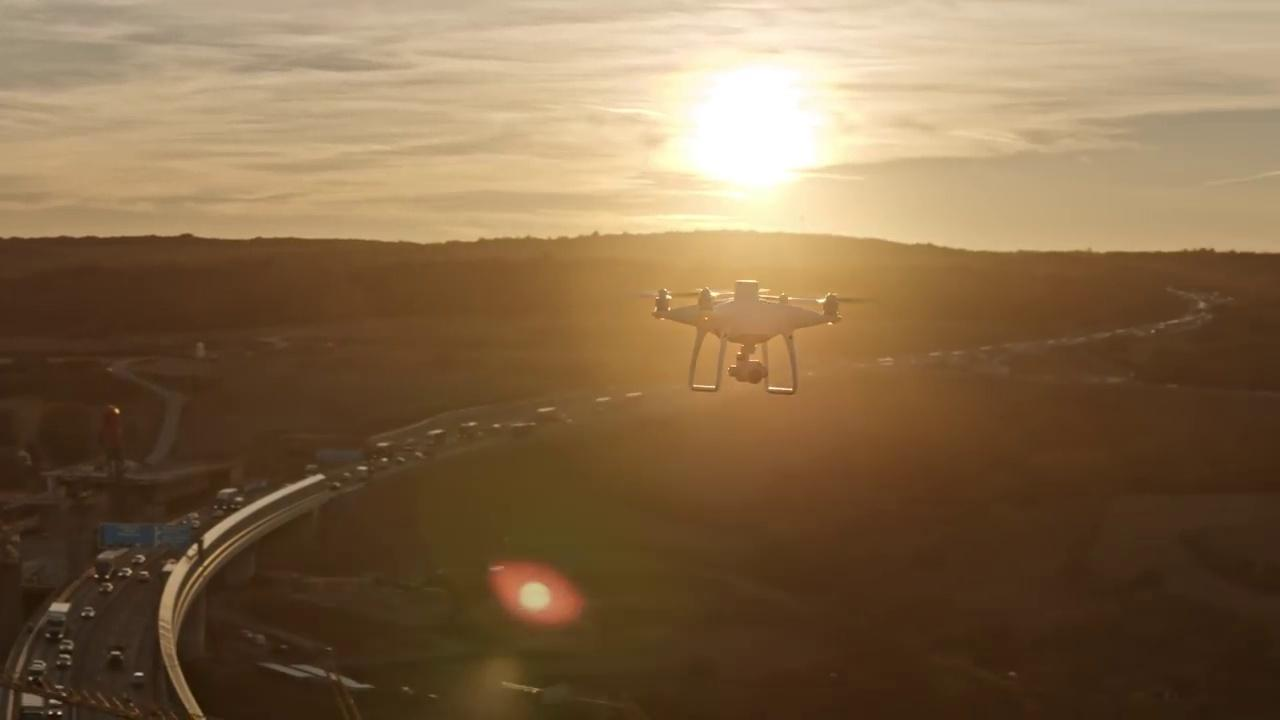drone: (621, 275, 882, 399)
